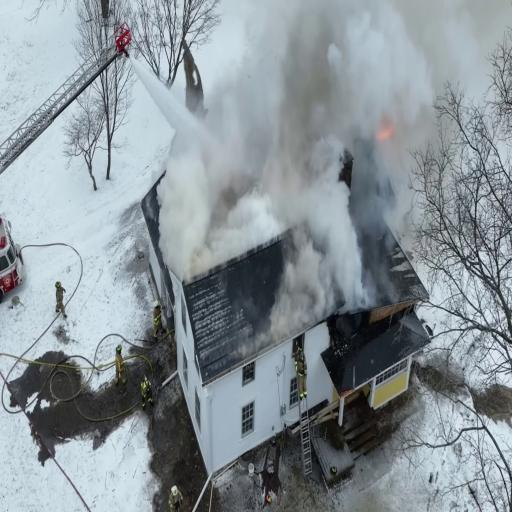smoke: (241, 7, 405, 139), (161, 148, 296, 232)
